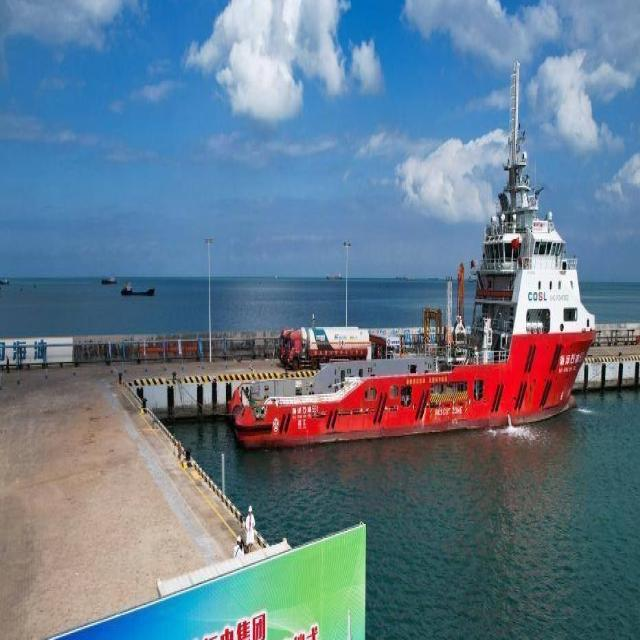cargoship: (234, 152, 584, 452)
